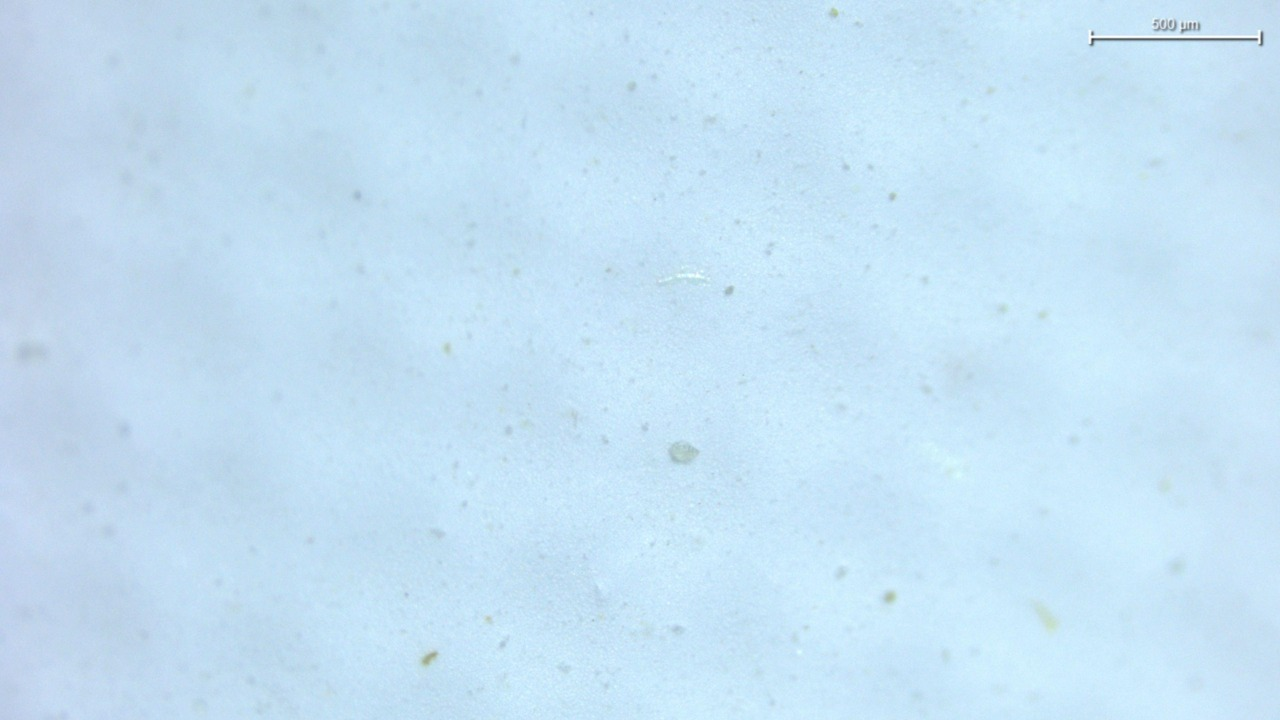microplastic_fragment: (669, 442, 699, 463)
